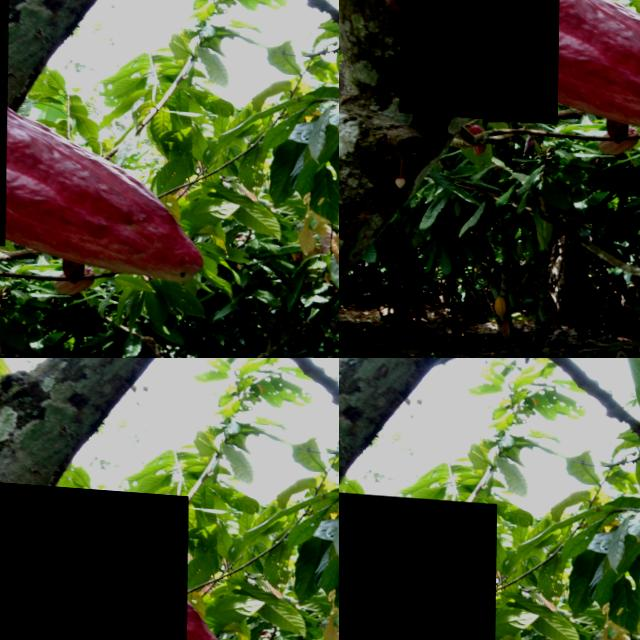Fitoftora: (400, 0, 561, 120)
Monilia: (0, 472, 188, 640)
Sana: (339, 478, 496, 640)
